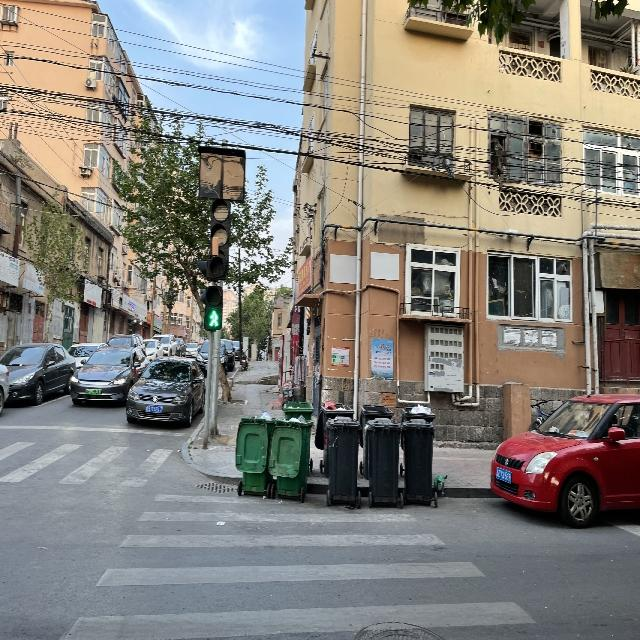garbage_bin: (363, 417, 400, 502), (324, 416, 359, 499), (401, 417, 434, 500)
overflow: (268, 414, 313, 495), (234, 411, 274, 493), (316, 403, 353, 476)
